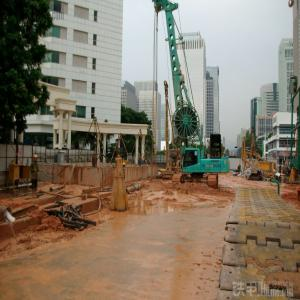yellow: (34, 156, 39, 163), (123, 162, 126, 169)
